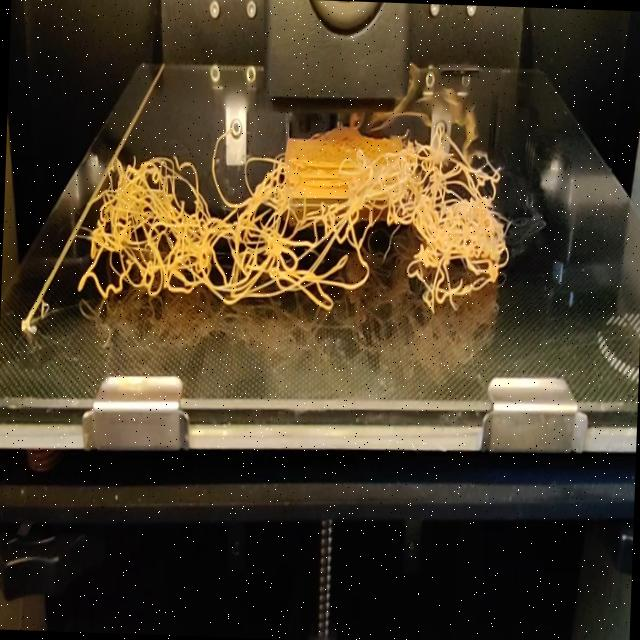spaghetti: (76, 118, 517, 320)
